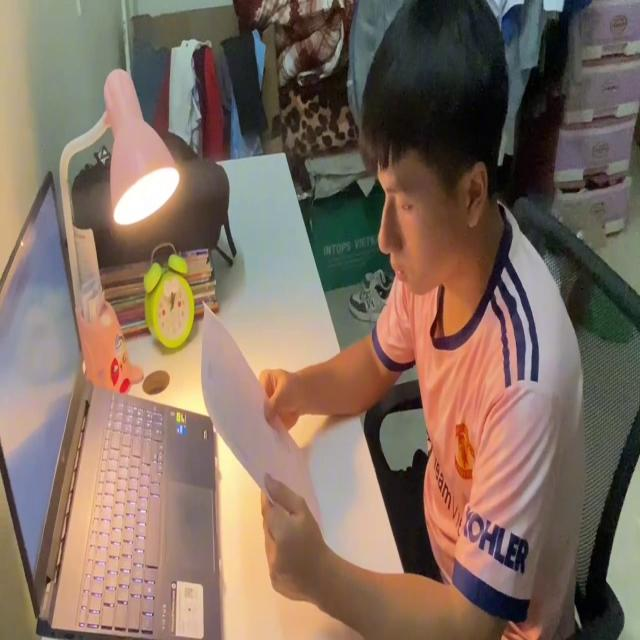book: (197, 290, 326, 540)
laptop: (0, 166, 226, 640)
student: (256, 0, 584, 640)
